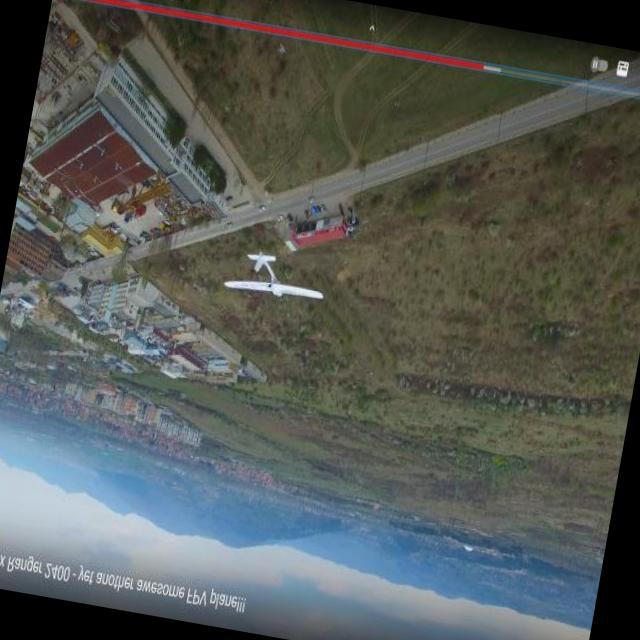UAV: (222, 226, 340, 324)
